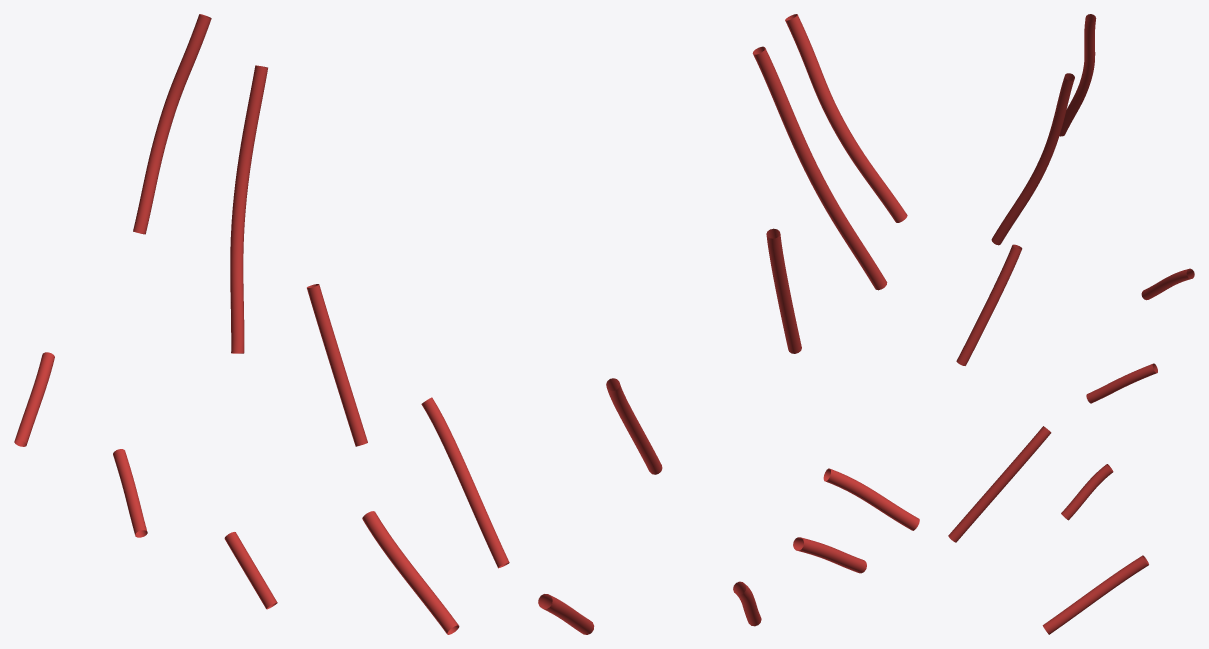
The picture shows the model from 3 angles, left to right: view 1: azimuth 30°, elevation 25°; view 2: azimuth 150°, elevation 25°; view 3: azimuth 270°, elevation 25°; orthographic projection. The views are drawn at different scales.
Parts seen in each view (by area): view 1: 右侧跖足底动脉穿支; view 2: 右侧跖足底动脉穿支; view 3: 右侧跖足底动脉穿支.
Part boxes in pixels (bbox=[...]): 右侧跖足底动脉穿支: bbox=[14, 14, 509, 634]; 右侧跖足底动脉穿支: bbox=[538, 14, 919, 634]; 右侧跖足底动脉穿支: bbox=[948, 14, 1194, 634].
Size of the model in its own units: 0.0591 by 0.0969 by 0.0407.
